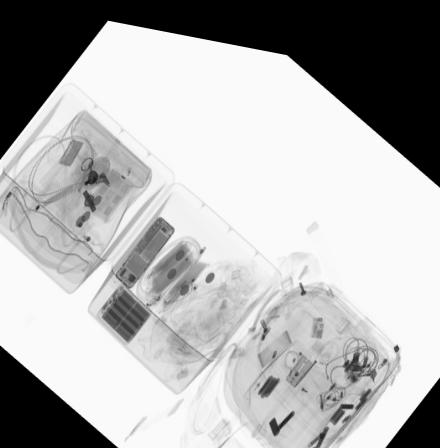Powerbank: (94, 275, 153, 336)
